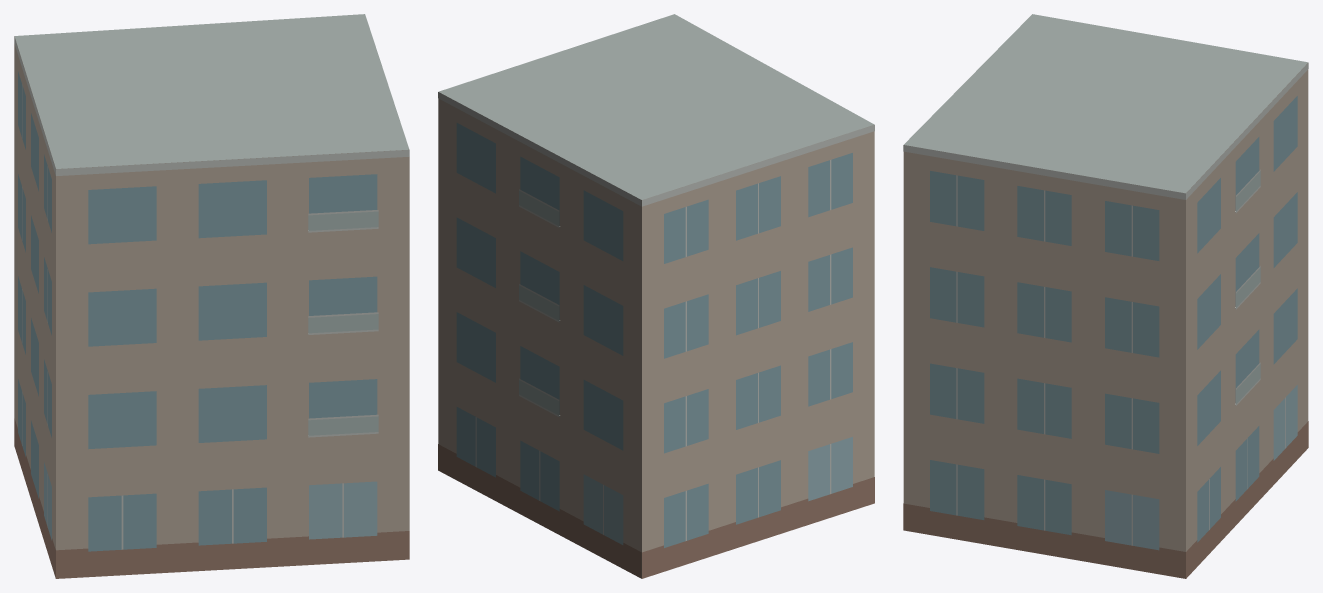
The model's file is survey-upis-32653510.glb.
3 views of the same model, side by side, from view 1: azimuth 30°, elevation 25°; view 2: azimuth 150°, elevation 25°; view 3: azimuth 270°, elevation 25° (orthographic). The views are drawn at different scales.
Parts seen in each view (by area): view 1: survey-upis-32653510.tmp; view 2: survey-upis-32653510.tmp; view 3: survey-upis-32653510.tmp.
Boxes of the visible parts, box(x1,y1,x2,y2) form: survey-upis-32653510.tmp: box(14, 14, 409, 578); survey-upis-32653510.tmp: box(438, 14, 874, 578); survey-upis-32653510.tmp: box(903, 14, 1308, 578).
Bounding box in the file's own units: 14.08 × 14.1 × 13.43.
